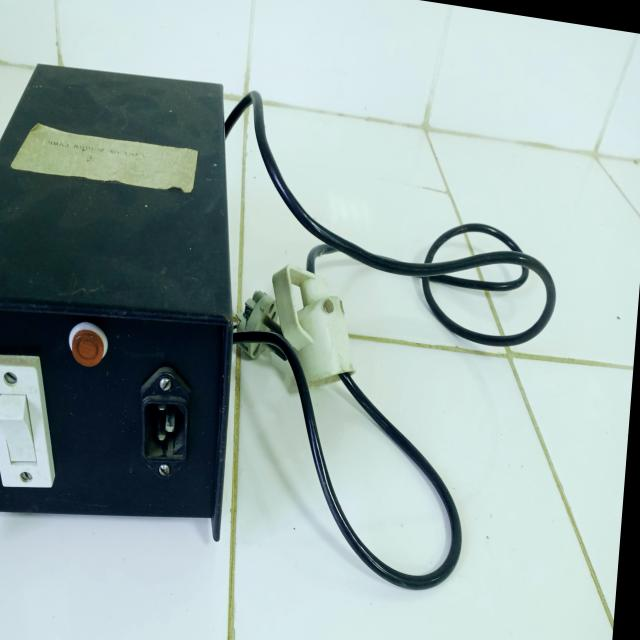Sodium Lamp Power Supply: (0, 14, 254, 571)
